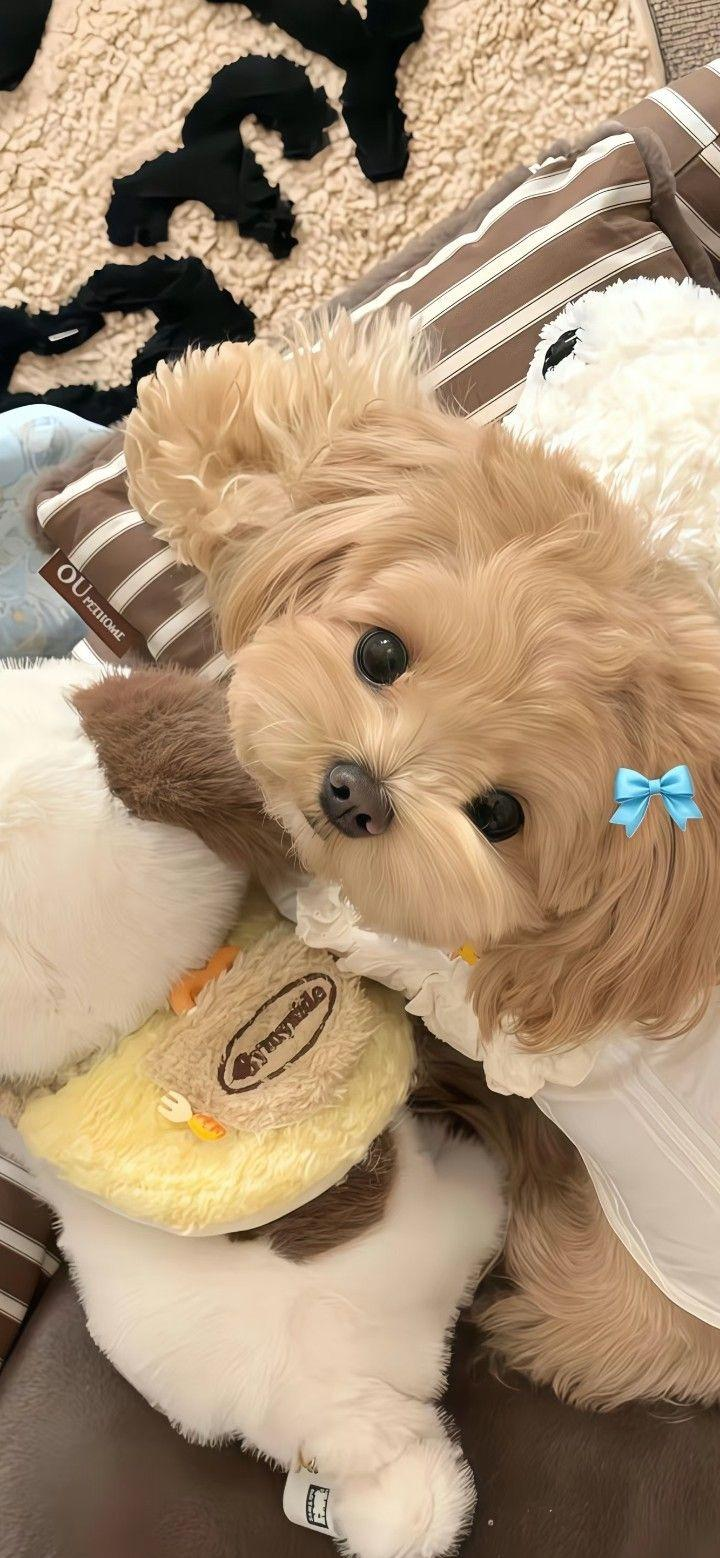puppy-dog: (120, 289, 720, 1416)
